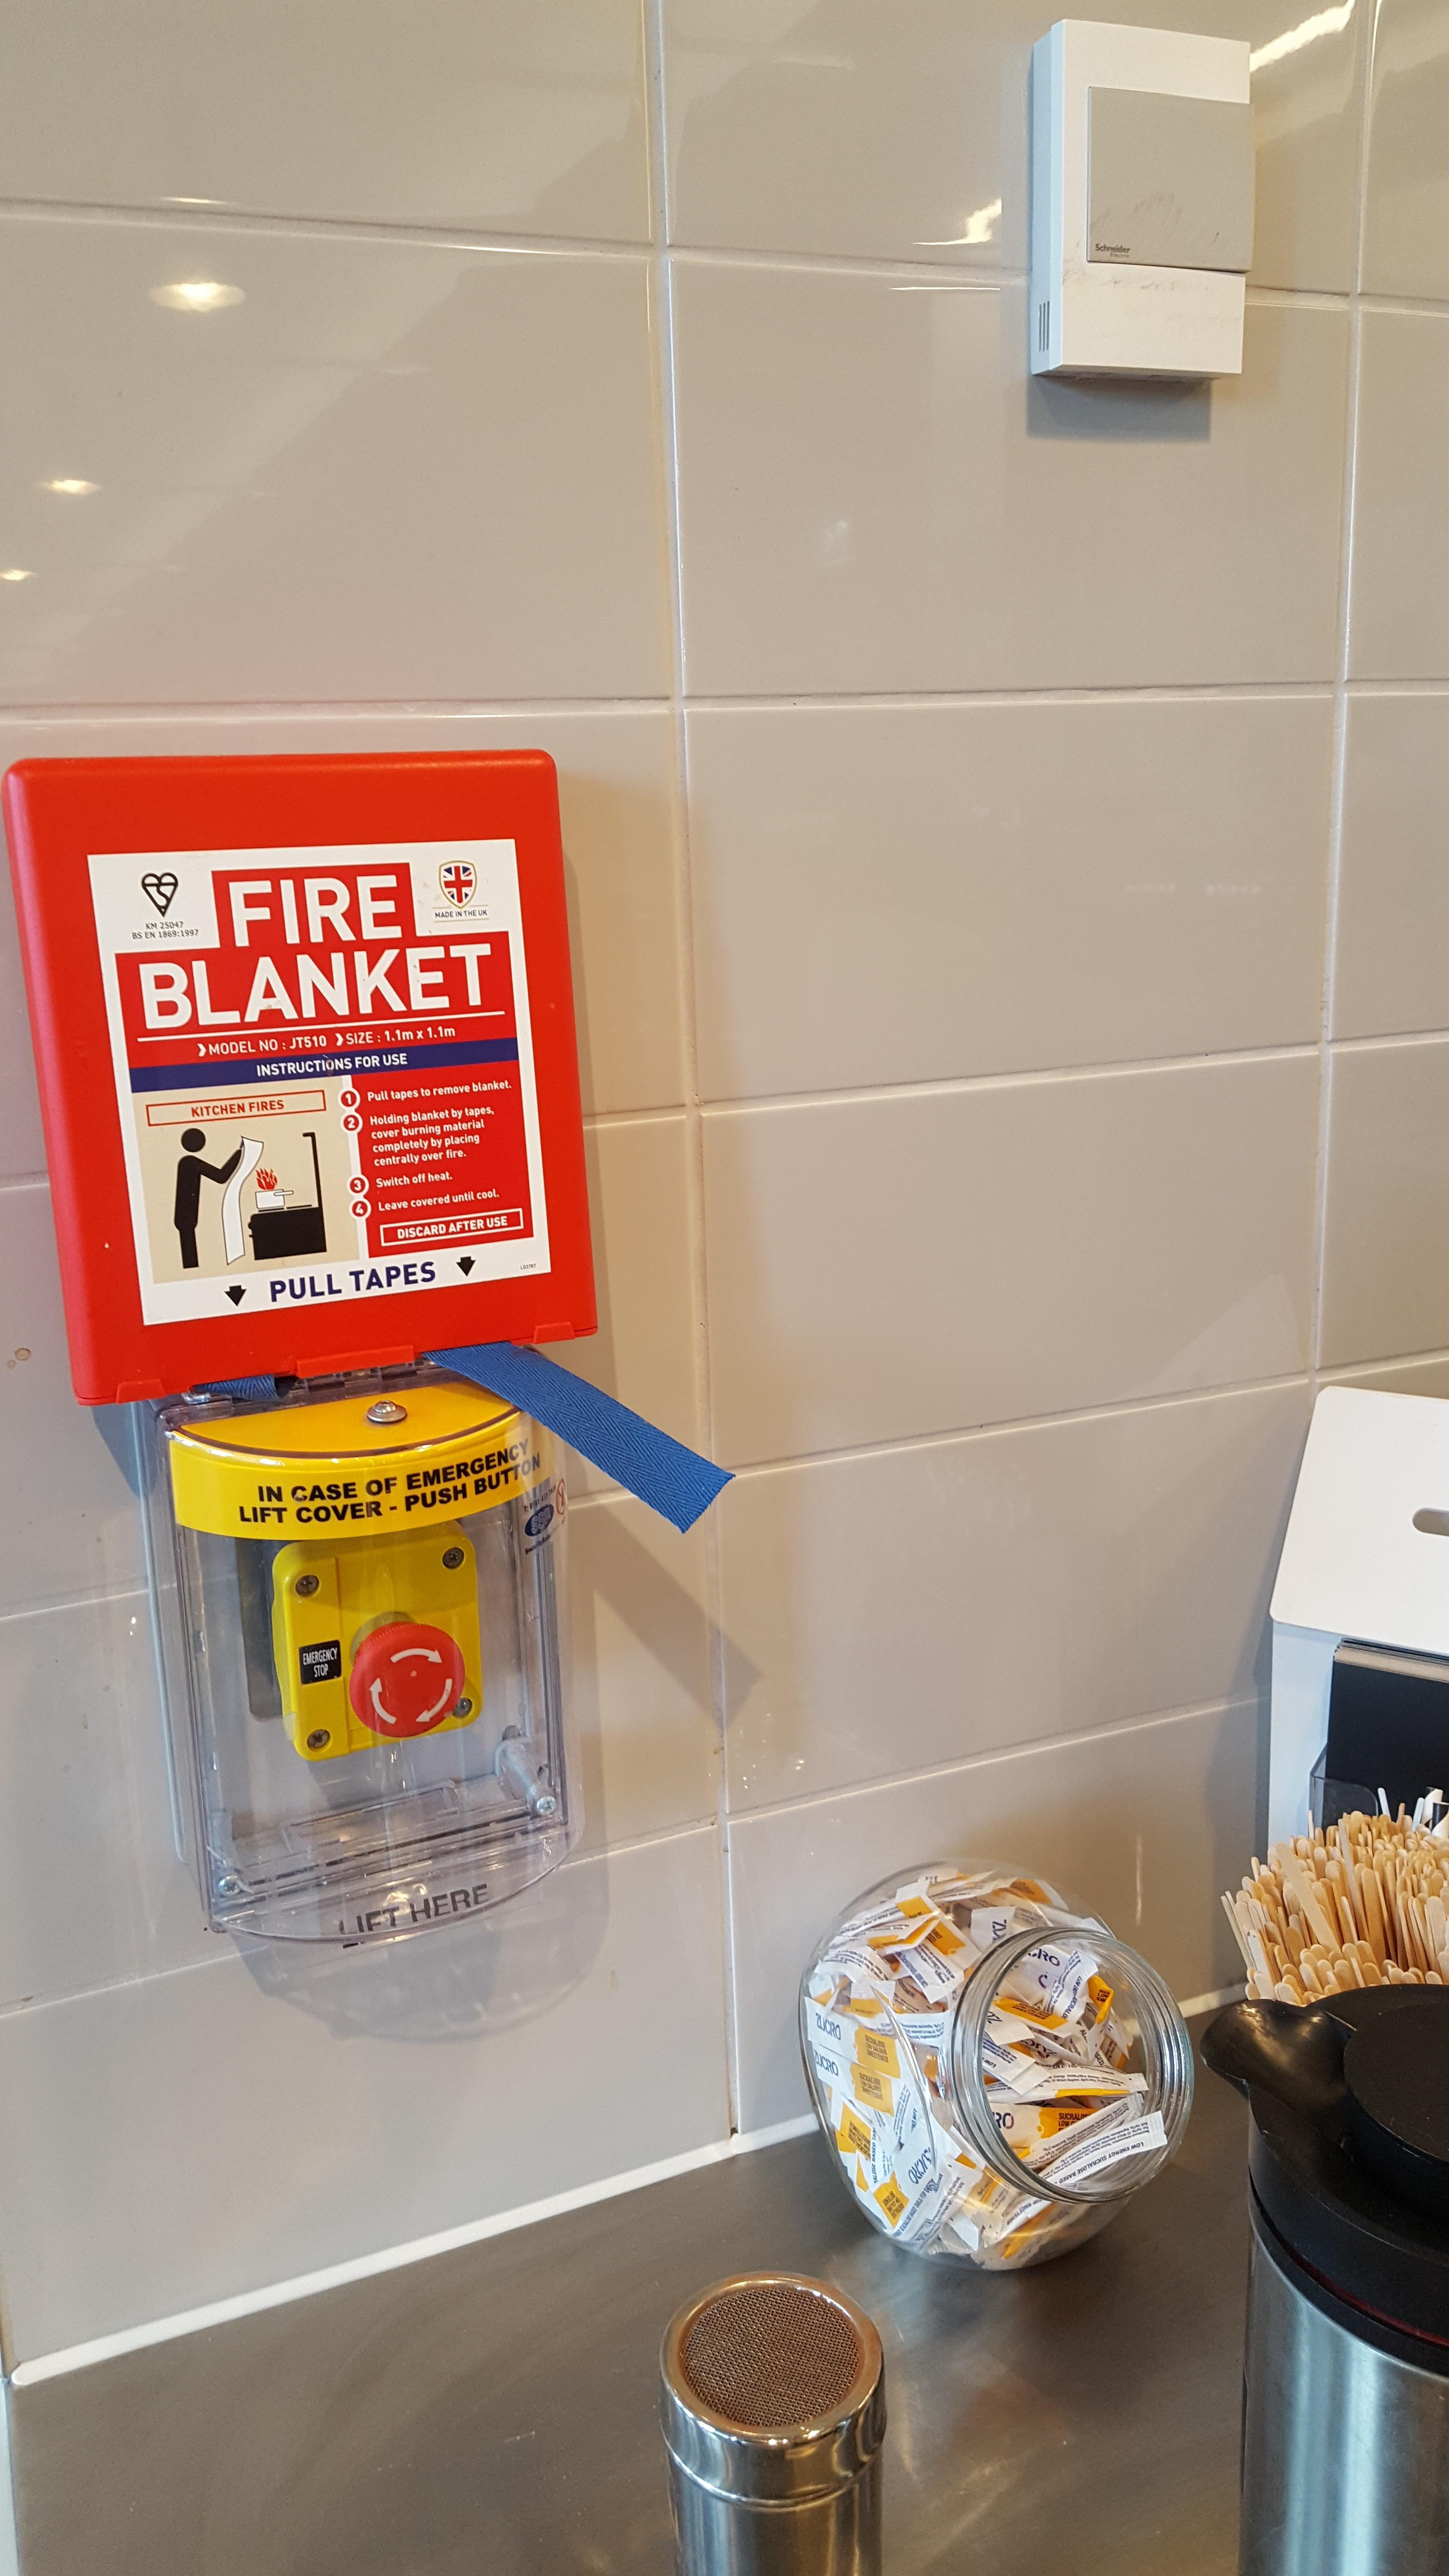blanket: (0, 748, 598, 1408)
